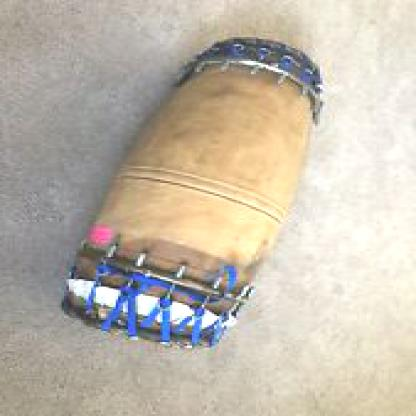Mridangam: (45, 27, 336, 347)
